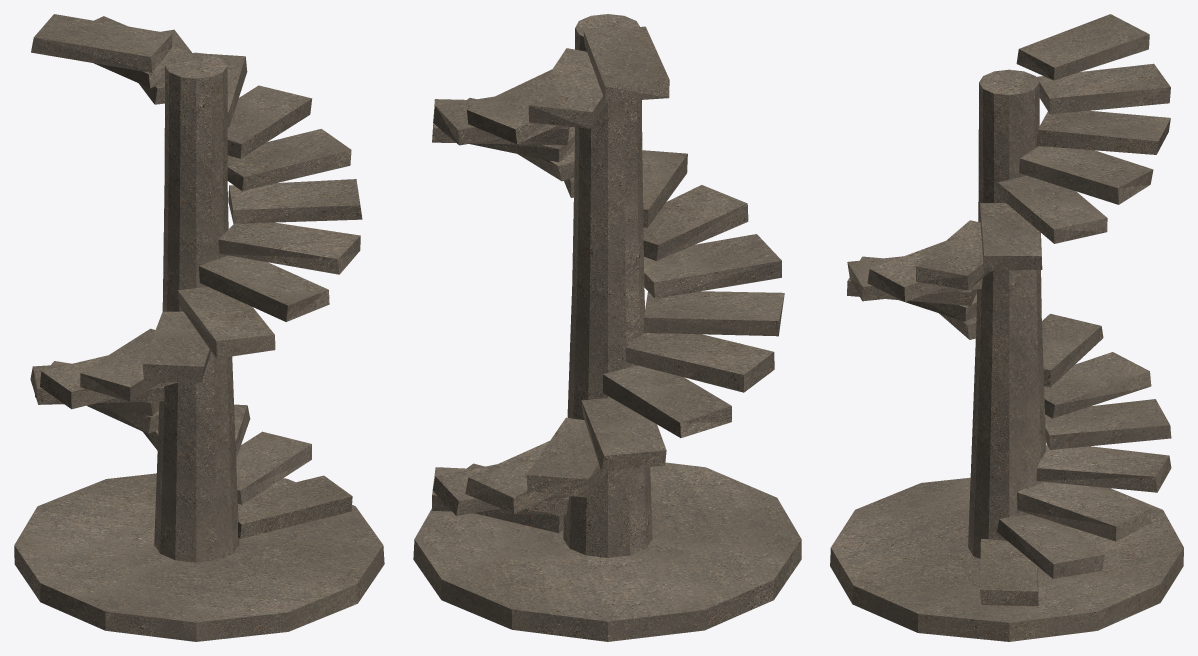
Rendered from staircase_to_nowhere.glb.
3 renders of one model, left to right at view 1: azimuth 30°, elevation 25°; view 2: azimuth 150°, elevation 25°; view 3: azimuth 270°, elevation 25°, orthographic. The views are drawn at different scales.
Parts seen in each view (by area): view 1: staircase_to_nowhere; view 2: staircase_to_nowhere; view 3: staircase_to_nowhere.
Part boxes in pixels (left/top/right/bottom): staircase_to_nowhere: left=14, top=14, right=384, bottom=641; staircase_to_nowhere: left=413, top=14, right=801, bottom=641; staircase_to_nowhere: left=830, top=14, right=1183, bottom=641.
Bounding box in the file's own units: 2.58 × 4.01 × 2.57.
1 material, 1 textured.
